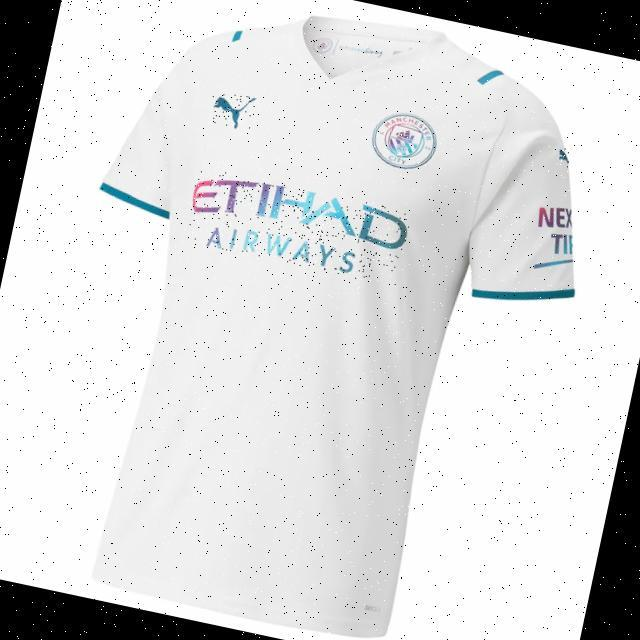Etihad Airways: (182, 166, 412, 287)
Puma: (207, 87, 257, 131), (555, 148, 571, 168)
